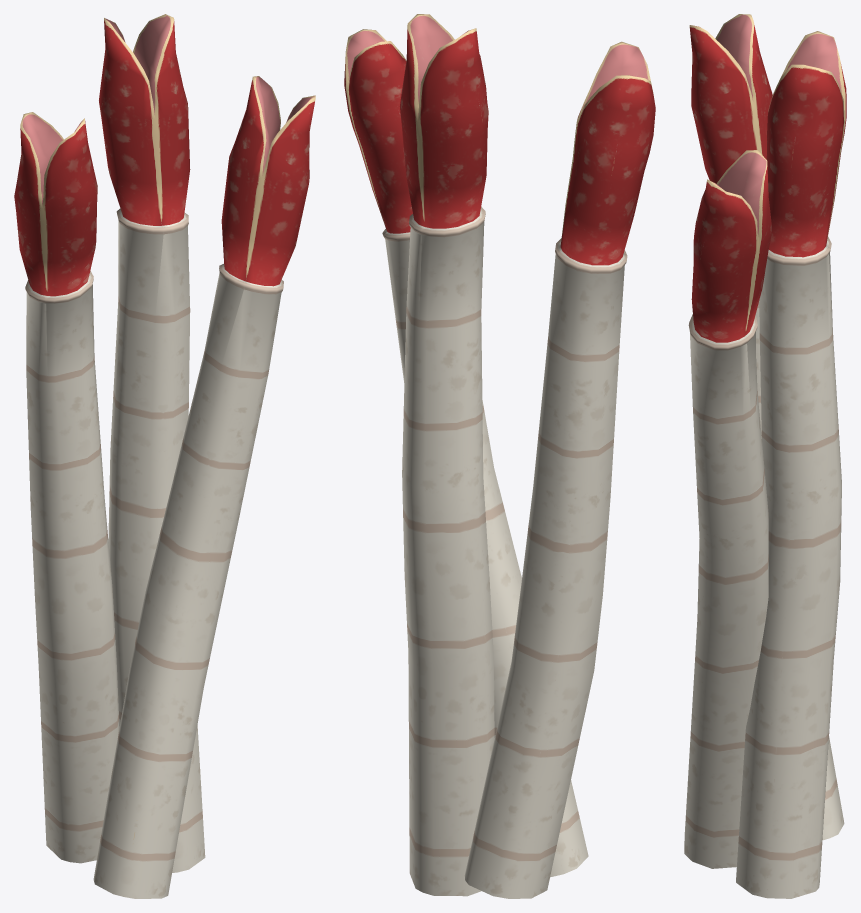
Rendered from tubeWorms_expTank.fbx.
3 views of the same model, side by side, from view 1: azimuth 30°, elevation 25°; view 2: azimuth 150°, elevation 25°; view 3: azimuth 270°, elevation 25° (orthographic). The views are drawn at different scales.
Visible parts, largest first — view 1: tubeWorm_1.032, tubeWorm_1.033, tubeWorm_1.030; view 2: tubeWorm_1.030, tubeWorm_1.033, tubeWorm_1.032; view 3: tubeWorm_1.030, tubeWorm_1.032, tubeWorm_1.033.
Boxes of the visible parts, x1,y1,x2,y2 form: tubeWorm_1.032: (93, 76, 315, 898); tubeWorm_1.033: (14, 112, 119, 863); tubeWorm_1.030: (99, 14, 205, 872); tubeWorm_1.030: (399, 14, 494, 896); tubeWorm_1.033: (464, 41, 655, 898); tubeWorm_1.032: (344, 29, 588, 877); tubeWorm_1.030: (736, 31, 846, 898); tubeWorm_1.032: (684, 150, 771, 868); tubeWorm_1.033: (689, 14, 844, 840).
Bounding box in the file's own units: 0.8652 × 2.37 × 0.419.
1 material, 1 textured.
